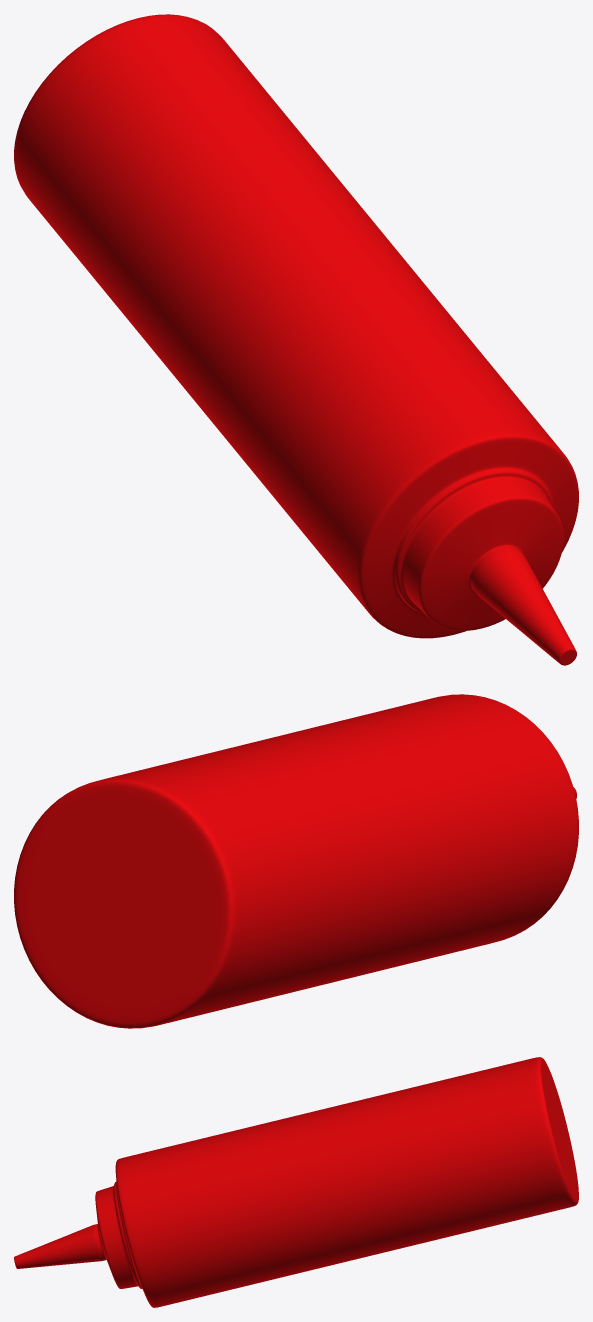
The model's file is ketchupBottle.obj.
The picture shows the model from 3 angles, top to bottom: view 1: azimuth 30°, elevation 25°; view 2: azimuth 150°, elevation 25°; view 3: azimuth 270°, elevation 25°; orthographic projection. The views are drawn at different scales.
Parts seen in each view (by area): view 1: _Ketchup_bottle_squeezable; view 2: _Ketchup_bottle_squeezable; view 3: _Ketchup_bottle_squeezable.
Part boxes in pixels (left/top/right/bottom): _Ketchup_bottle_squeezable: left=14, top=14, right=578, bottom=665; _Ketchup_bottle_squeezable: left=14, top=694, right=578, bottom=1028; _Ketchup_bottle_squeezable: left=14, top=1057, right=578, bottom=1307.
Size of the model in its own units: 3.82 by 6.48 by 14.05.
